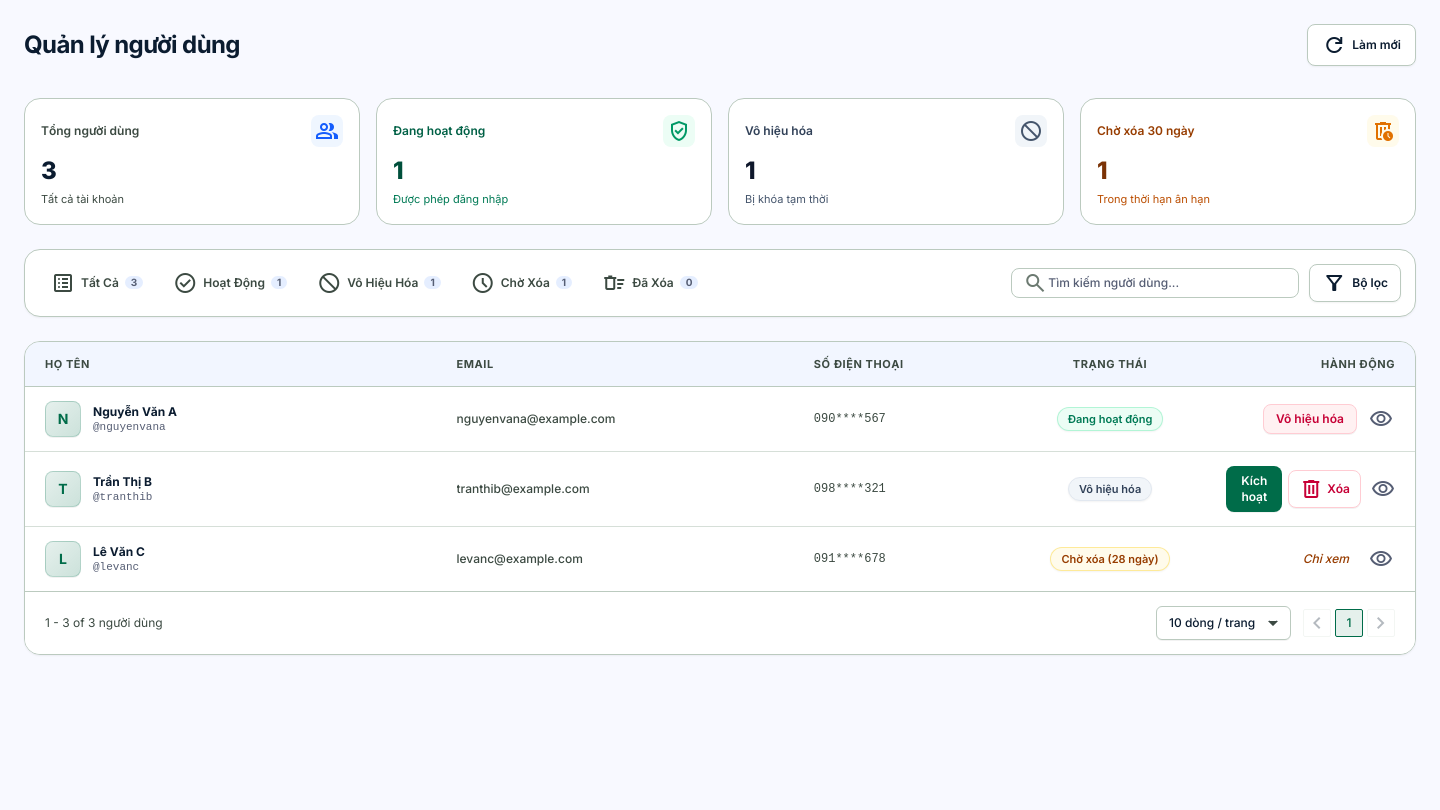
Test: Admin-web Users Suite — UserListPage › 3.6. [Tầng 1 - UI] Modal lọc dữ liệu: Chuyển đổi trạng thái bằng checkbox, chọn Tất cả thì toàn bộ trạng thái con được check theo, bỏ chọn 1 con thì Tất cả unch
This screenshot has width=1440, height=810.
Expected: the text "Nguyễn Văn A" is shown, [93,404,177,419]
# Mở modal lọc
Click the button "Bộ lọc" at [1355, 282], box [1309,264,1401,302]
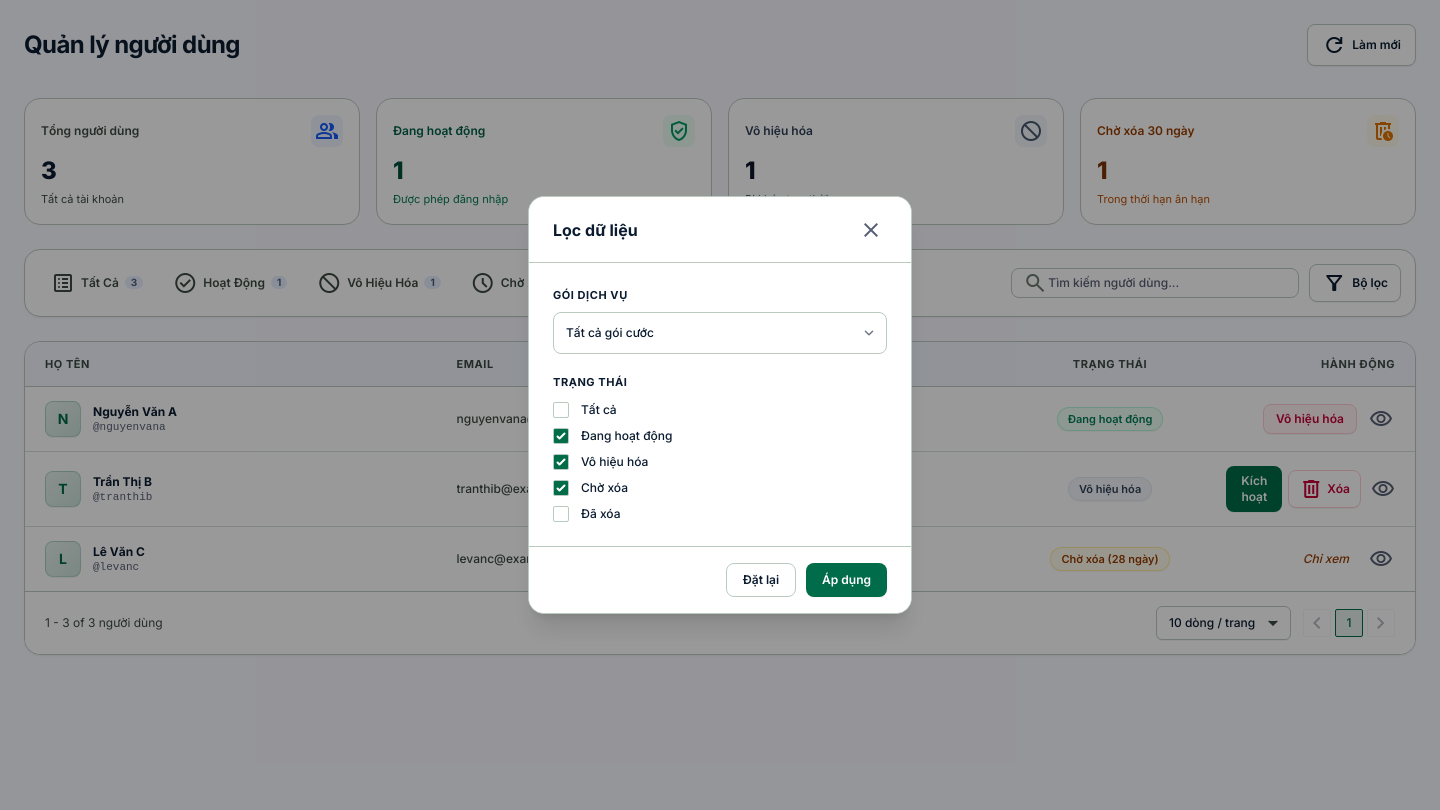
Result: the heading "Lọc dữ liệu" is shown at [553,218,638,242]
Result: the checkbox with test id "filter-status-all" is not checked at [553,402,569,418]
Result: the checkbox with test id "filter-status-active" is checked at [553,428,569,444]
Click the checkbox with test id "filter-status-deleted" at [561, 514], box [553,506,569,522]
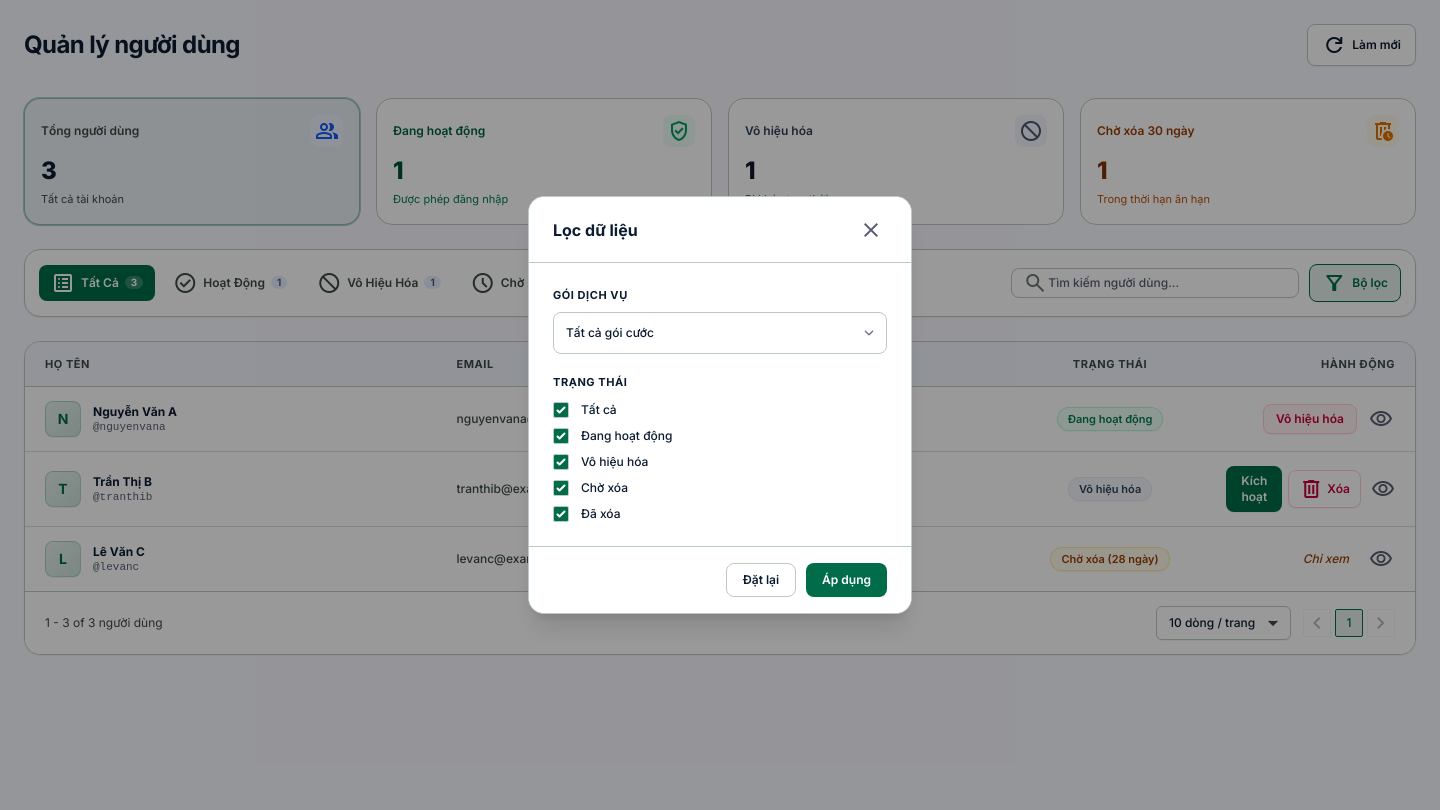
Result: the checkbox with test id "filter-status-deleted" is checked
Result: the checkbox with test id "filter-status-all" is checked at [553,402,569,418]
# Thao tác 2: Bỏ chọn checkbox con 'deleted'
Click the checkbox with test id "filter-status-deleted" at [561, 514], box [553,506,569,522]
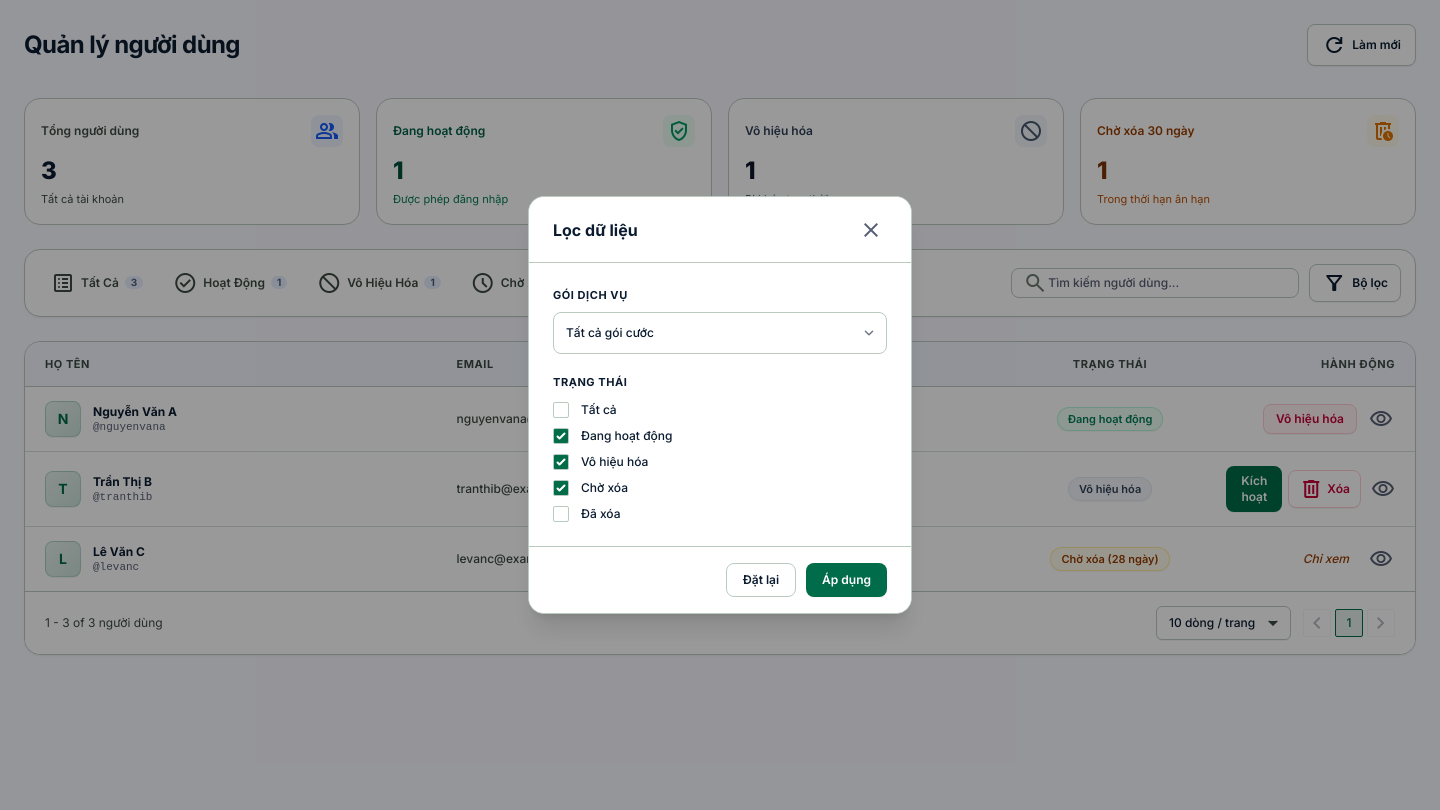
Result: the checkbox with test id "filter-status-deleted" is not checked at [553,506,569,522]
Result: the checkbox with test id "filter-status-active" is checked at [553,428,569,444]
Result: the checkbox with test id "filter-status-all" is not checked
Click the checkbox with test id "filter-status-all" at [561, 410], box [553,402,569,418]
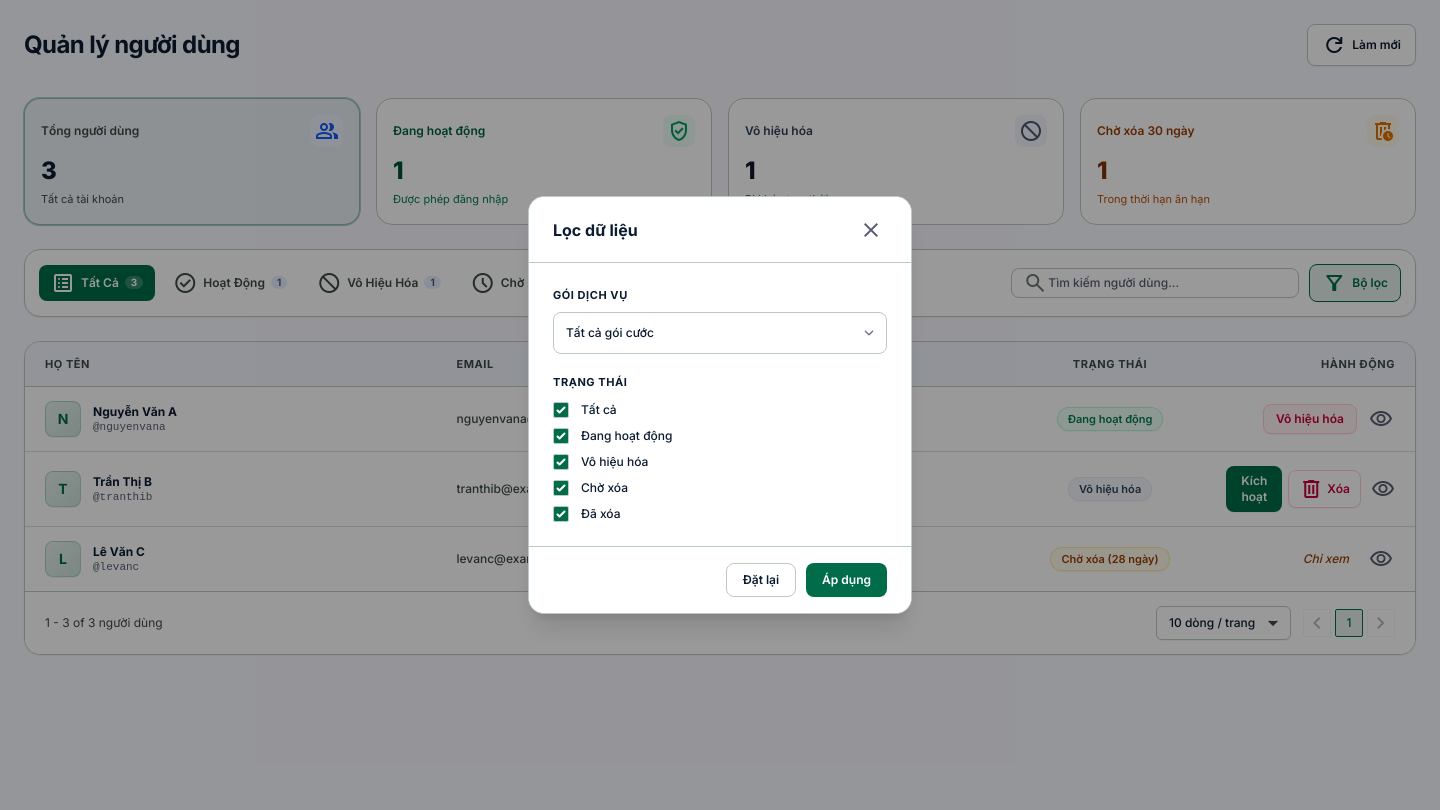
Result: the checkbox with test id "filter-status-all" is checked
Result: the checkbox with test id "filter-status-active" is checked at [553,428,569,444]
Result: the checkbox with test id "filter-status-inactive" is checked at [553,454,569,470]
Click the checkbox with test id "filter-status-all" at [561, 410], box [553,402,569,418]
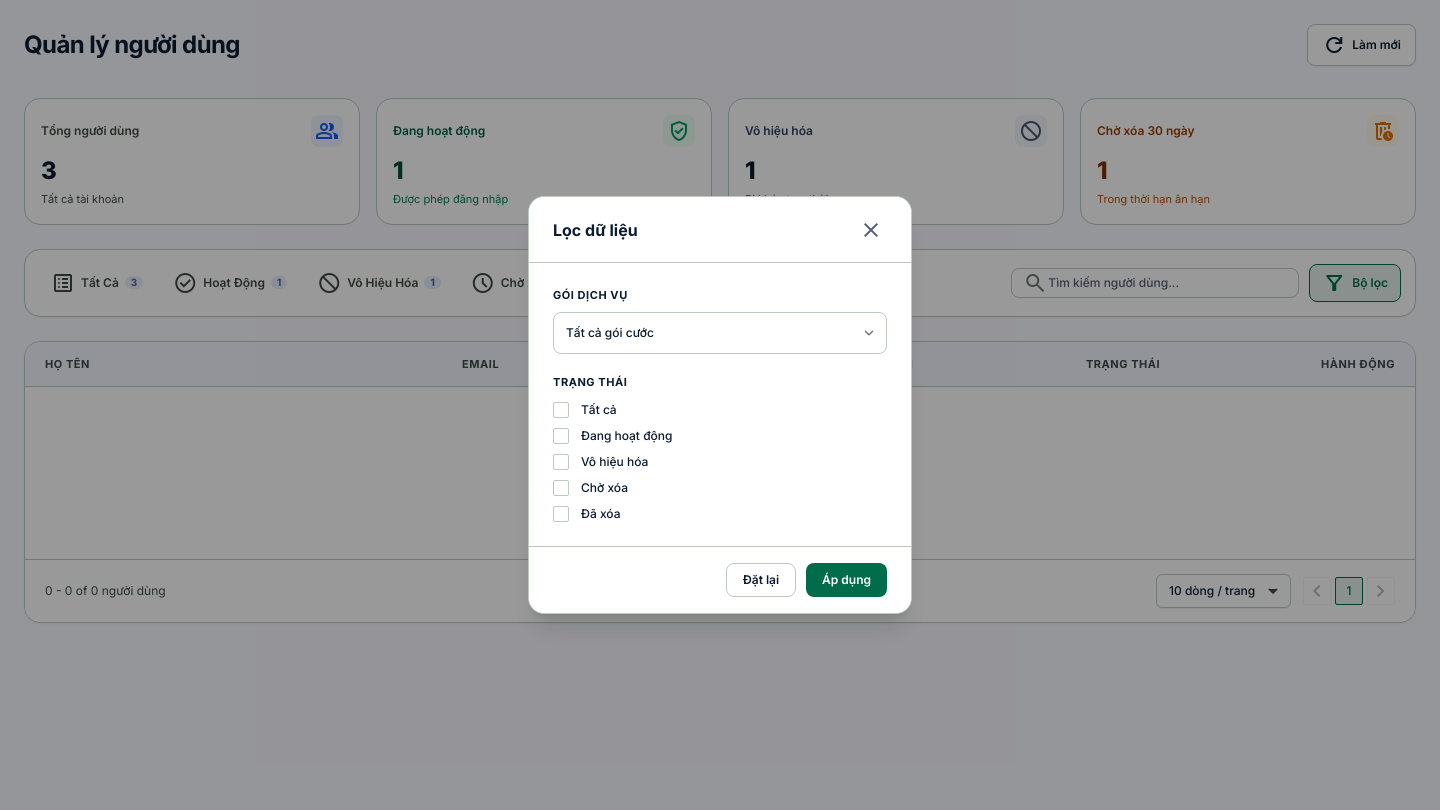
Result: the checkbox with test id "filter-status-all" is not checked at [553,402,569,418]
Result: the checkbox with test id "filter-status-active" is not checked at [553,428,569,444]
Result: the checkbox with test id "filter-status-inactive" is not checked at [553,454,569,470]
